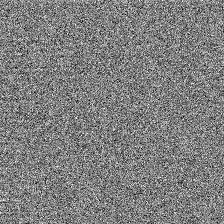cavities: (5, 81, 127, 135)
